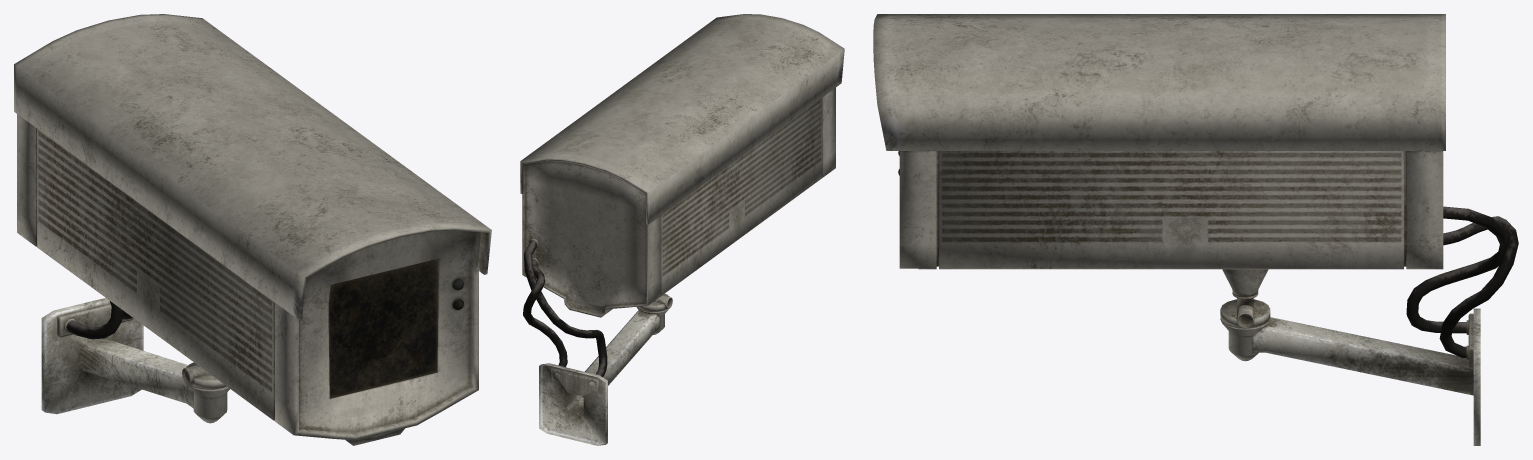
The model's file is cctv_camera.glb.
3 views of the same model, side by side, from view 1: azimuth 30°, elevation 25°; view 2: azimuth 150°, elevation 25°; view 3: azimuth 270°, elevation 25° (orthographic). The views are drawn at different scales.
Parts seen in each view (by area): view 1: CCTV_Camera_low (×2); view 2: CCTV_Camera_low (×2); view 3: CCTV_Camera_low (×2).
Boxes of the visible parts, x1,y1,x2,y2 form: CCTV_Camera_low (×2): [14, 14, 491, 445]; CCTV_Camera_low (×2): [520, 14, 844, 445]; CCTV_Camera_low (×2): [873, 14, 1518, 445].
Size of the model in its own units: 0.663 by 1.33 by 2.
2 materials, 2 textured.
